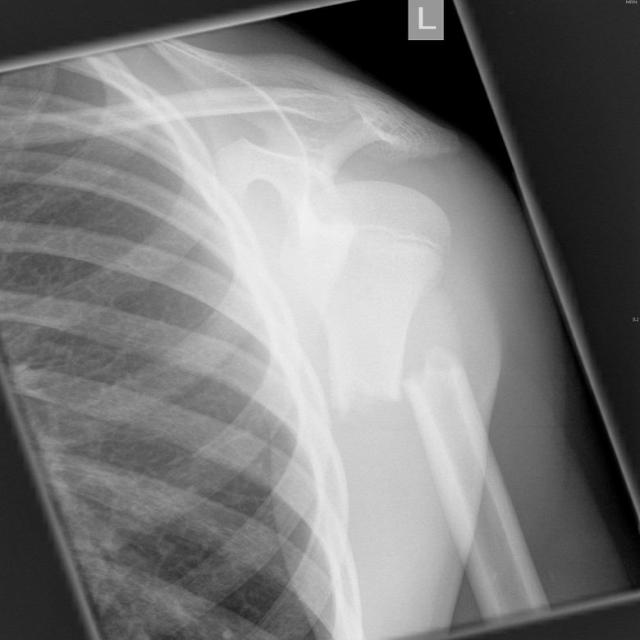fracture: (331, 348, 471, 414)
